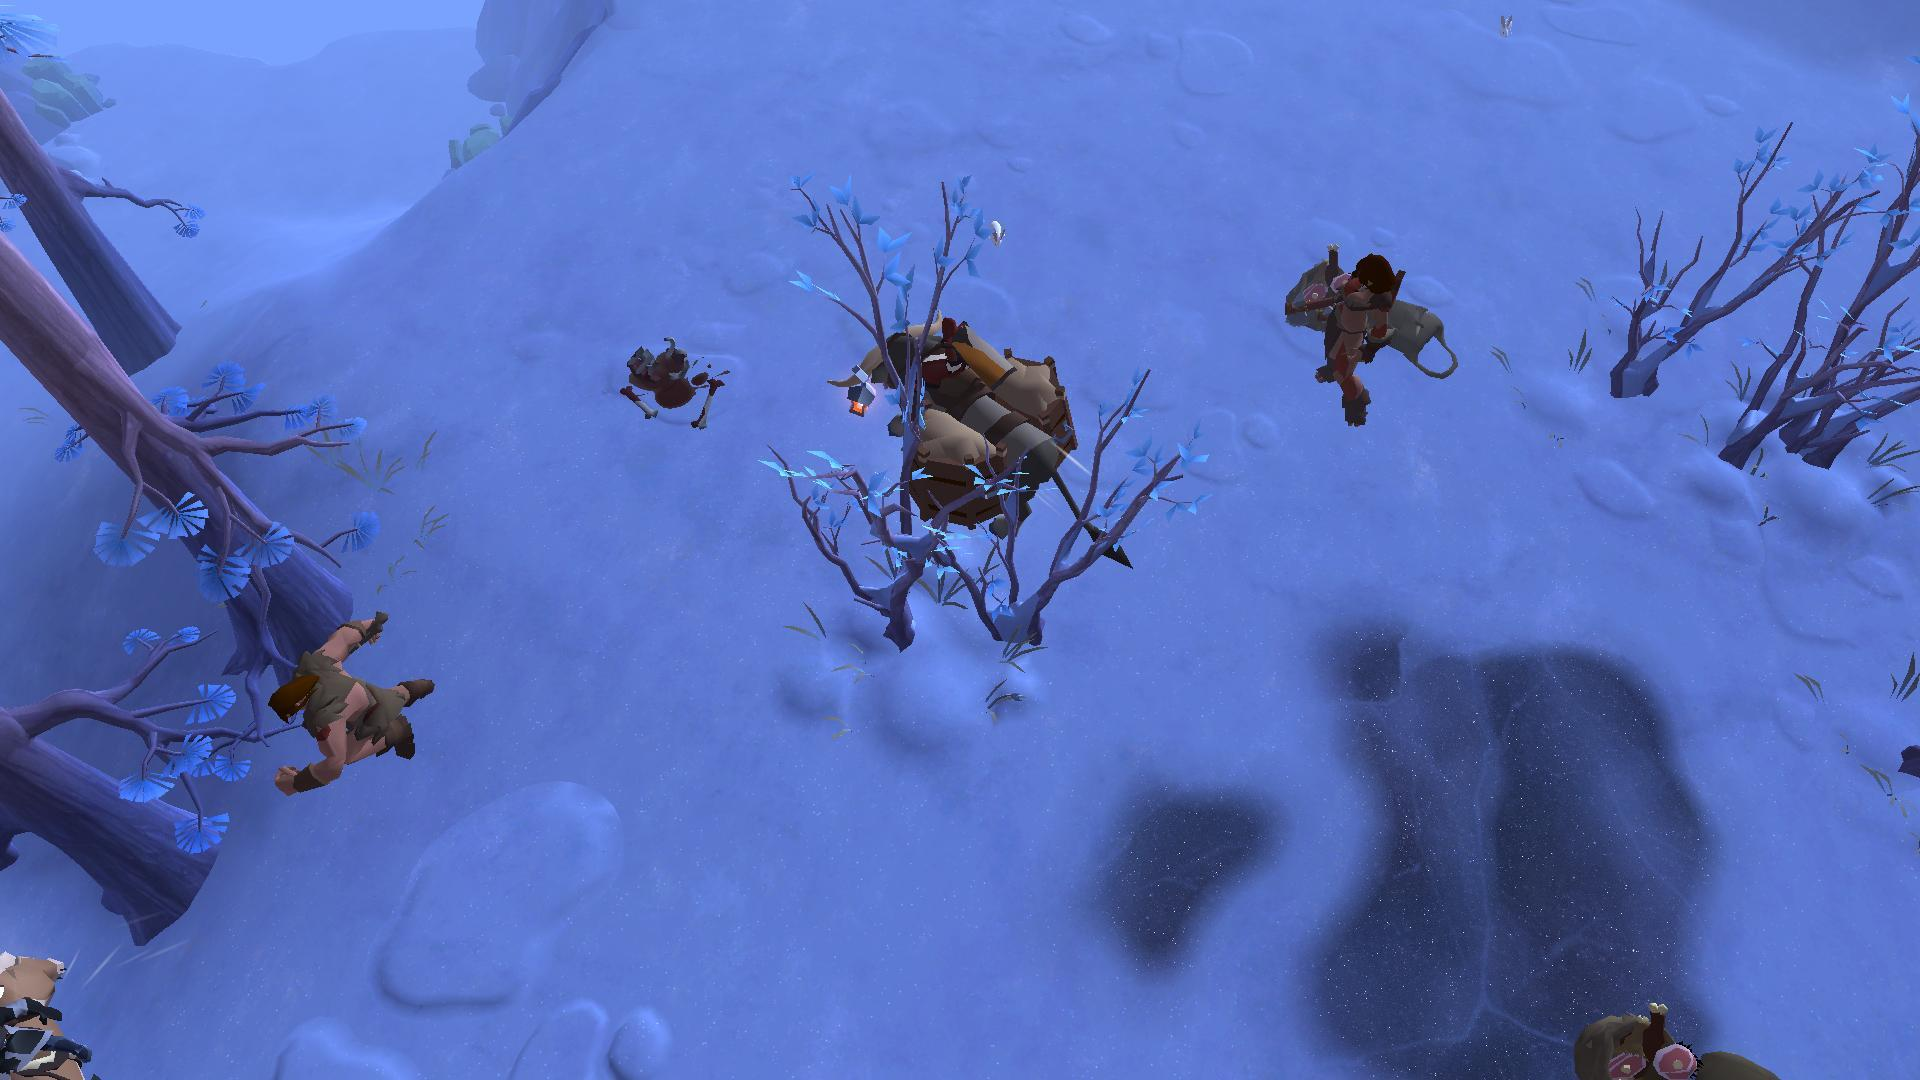enemy_factionKeeper: (253, 607, 430, 791), (1300, 256, 1395, 427)
rock_t3: (21, 41, 116, 136), (444, 112, 517, 189)
